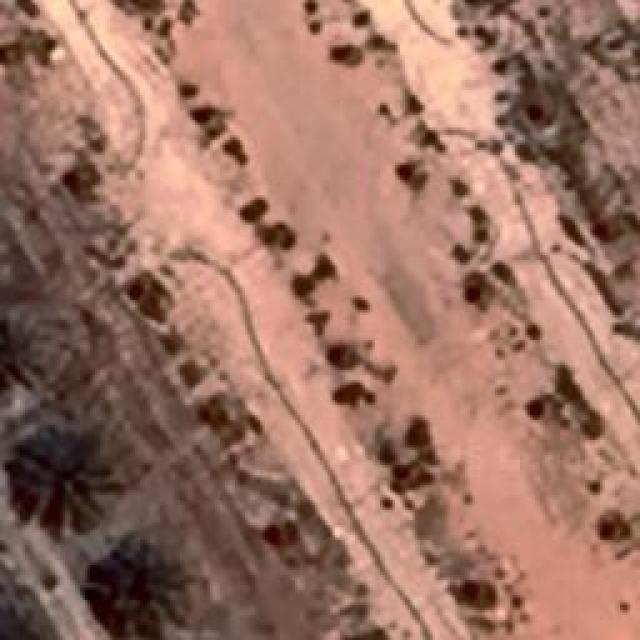PalmTree: (100, 542, 185, 632), (20, 432, 100, 516), (0, 310, 48, 396), (0, 585, 47, 640)
